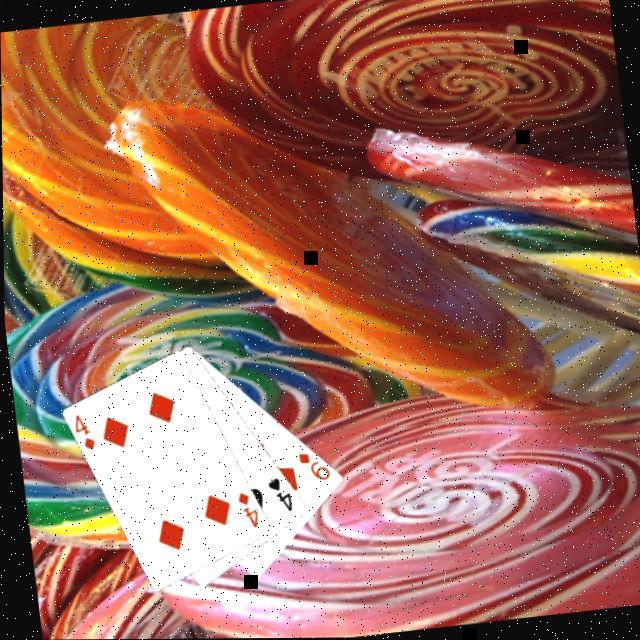4D: (230, 490, 260, 534), (66, 412, 95, 456)
4S: (260, 475, 294, 518)
9D: (290, 448, 330, 488)
